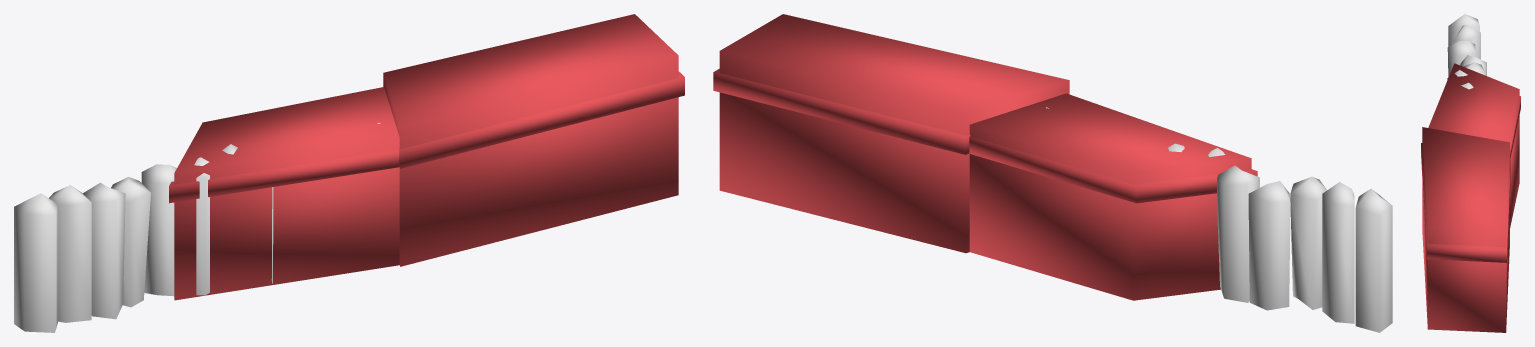
The model's file is Walls.fbx.
3 views of the same model, side by side, from view 1: azimuth 30°, elevation 25°; view 2: azimuth 150°, elevation 25°; view 3: azimuth 270°, elevation 25° (orthographic). The views are drawn at different scales.
Parts seen in each view (by area): view 1: Wall1, WoodWall, Wall1.B; view 2: Wall1, WoodWall, Wall1.B, WoodWall.L; view 3: Wall1, Wall1.B, WoodWall.
Part boxes in pixels (bbox=[...]): Wall1: bbox=[174, 14, 678, 300]; WoodWall: bbox=[14, 122, 380, 332]; Wall1.B: bbox=[169, 71, 684, 203]; Wall1: bbox=[719, 14, 1251, 300]; WoodWall: bbox=[1046, 107, 1392, 332]; Wall1.B: bbox=[713, 68, 1257, 203]; WoodWall.L: bbox=[1290, 196, 1312, 309]; Wall1: bbox=[1422, 63, 1519, 332]; Wall1.B: bbox=[1421, 96, 1520, 262]; WoodWall: bbox=[1447, 14, 1486, 89].
Size of the model in its own units: 1328 by 278 by 243.
